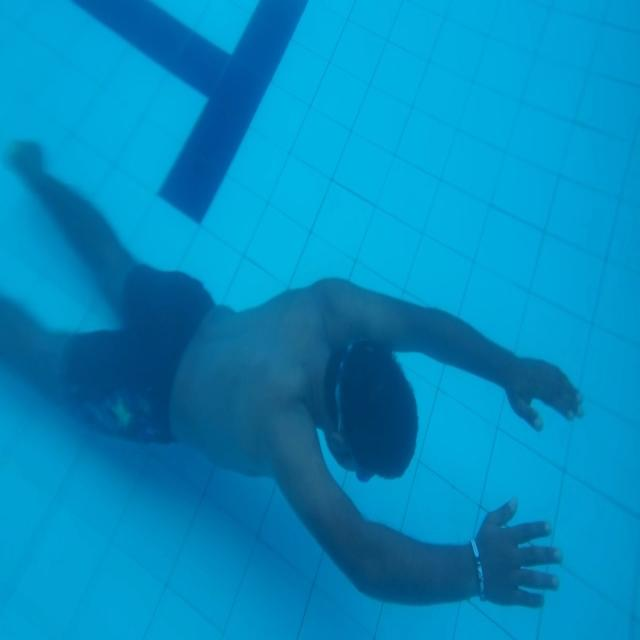Drowning: (2, 138, 586, 607)
